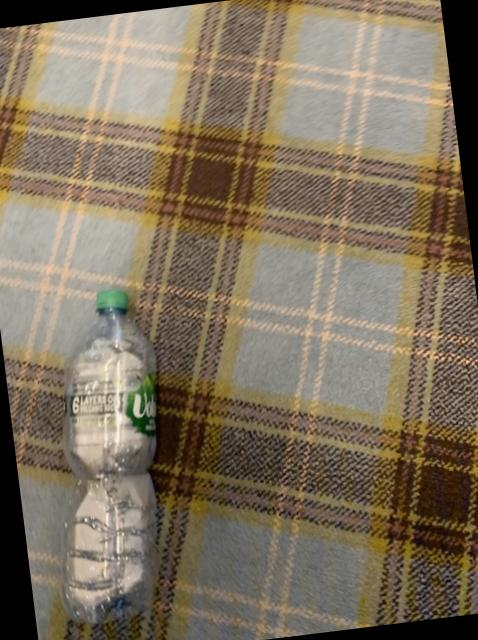plastic: (60, 287, 155, 620)
